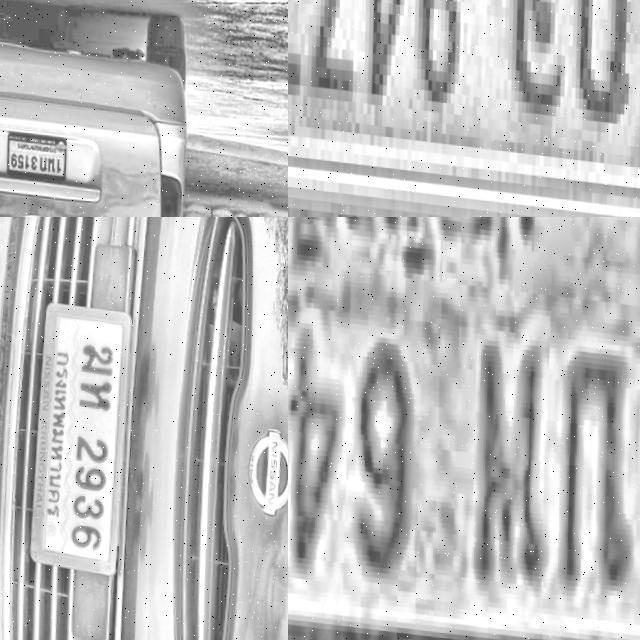license-plate: (288, 217, 640, 640), (288, 0, 640, 217), (82, 296, 288, 459), (2, 125, 67, 180)
